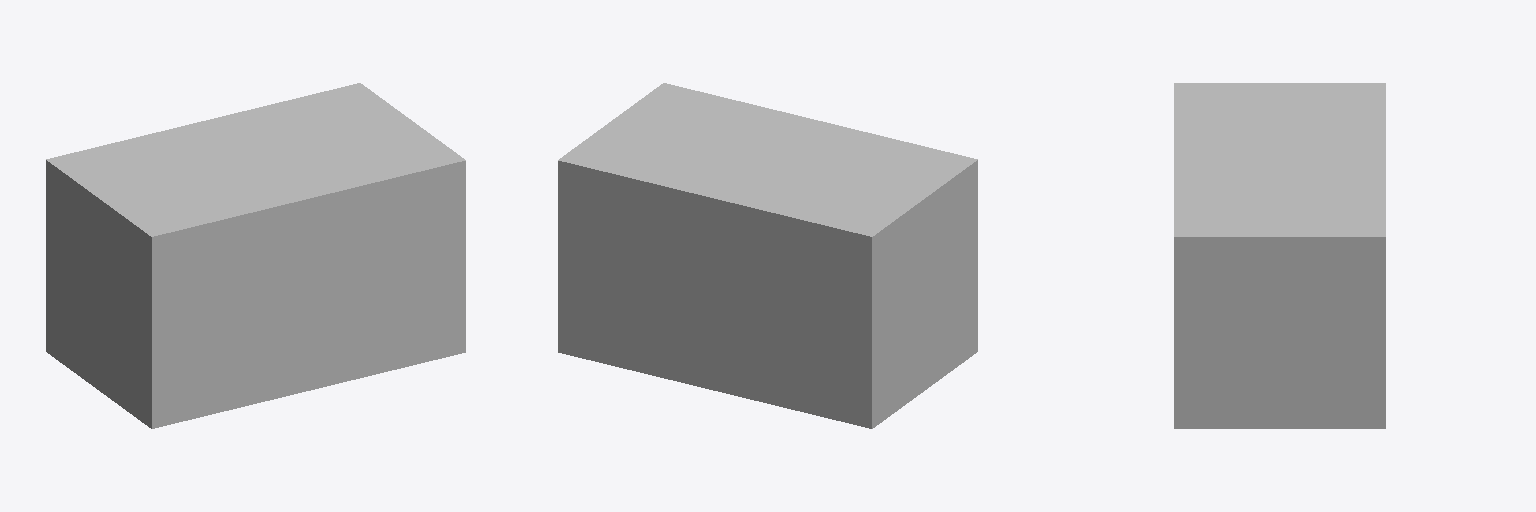
The model's file is room.obj.
The picture shows the model from 3 angles: view 1: azimuth 30°, elevation 25°; view 2: azimuth 150°, elevation 25°; view 3: azimuth 270°, elevation 25°; orthographic projection.
Visible parts, largest first — view 1: Plane; view 2: Plane; view 3: Plane.
Boxes of the visible parts, box(x1,y1,x2,y2) form: Plane: box(46, 83, 465, 428); Plane: box(558, 83, 977, 428); Plane: box(1174, 83, 1385, 428).
Size of the model in its own units: 3.43 by 2 by 2.